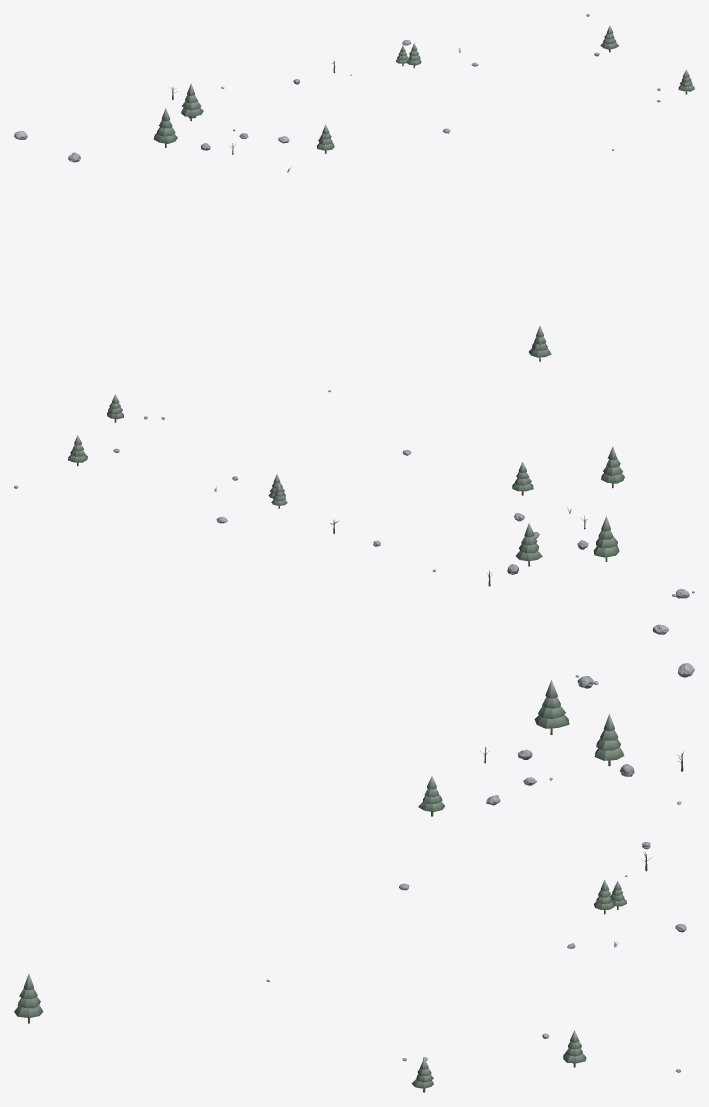
Rendered from frost_land_scatter_c19_13.glb.
3 views of the same model, one above another, from view 1: azimuth 30°, elevation 25°; view 2: azimuth 150°, elevation 25°; view 3: azimuth 270°, elevation 25° (orthographic). The views are drawn at different scales.
Visible parts, largest first — view 1: frost_land_scatter_c19_13; view 2: frost_land_scatter_c19_13; view 3: frost_land_scatter_c19_13.
Part boxes in pixels (left/top/right/bottom): frost_land_scatter_c19_13: left=14, top=14, right=694, bottom=361; frost_land_scatter_c19_13: left=14, top=390, right=694, bottom=634; frost_land_scatter_c19_13: left=14, top=663, right=694, bottom=1092.
Size of the model in its own units: 255 by 66.61 by 187.
